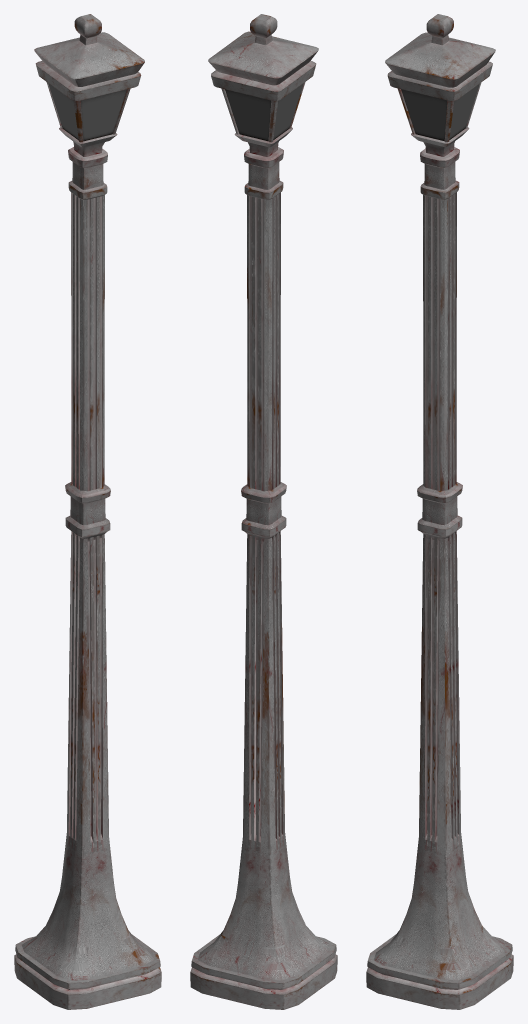
The model's file is Lamp_Post.fbx.
The picture shows the model from 3 angles, left to right: view 1: azimuth 30°, elevation 25°; view 2: azimuth 150°, elevation 25°; view 3: azimuth 330°, elevation 25°; orthographic projection.
Visible parts, largest first — view 1: Poste de luz; view 2: Poste de luz; view 3: Poste de luz.
Part boxes in pixels (x1,y1,x2,y2): Poste de luz: [14, 14, 161, 1009]; Poste de luz: [190, 14, 337, 1009]; Poste de luz: [366, 14, 513, 1009].
Bounding box in the file's own units: 45.73 × 397 × 45.73.
